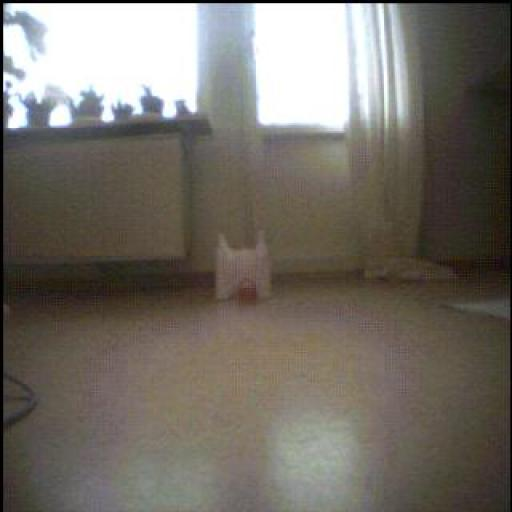Basket: (238, 279, 259, 305)
